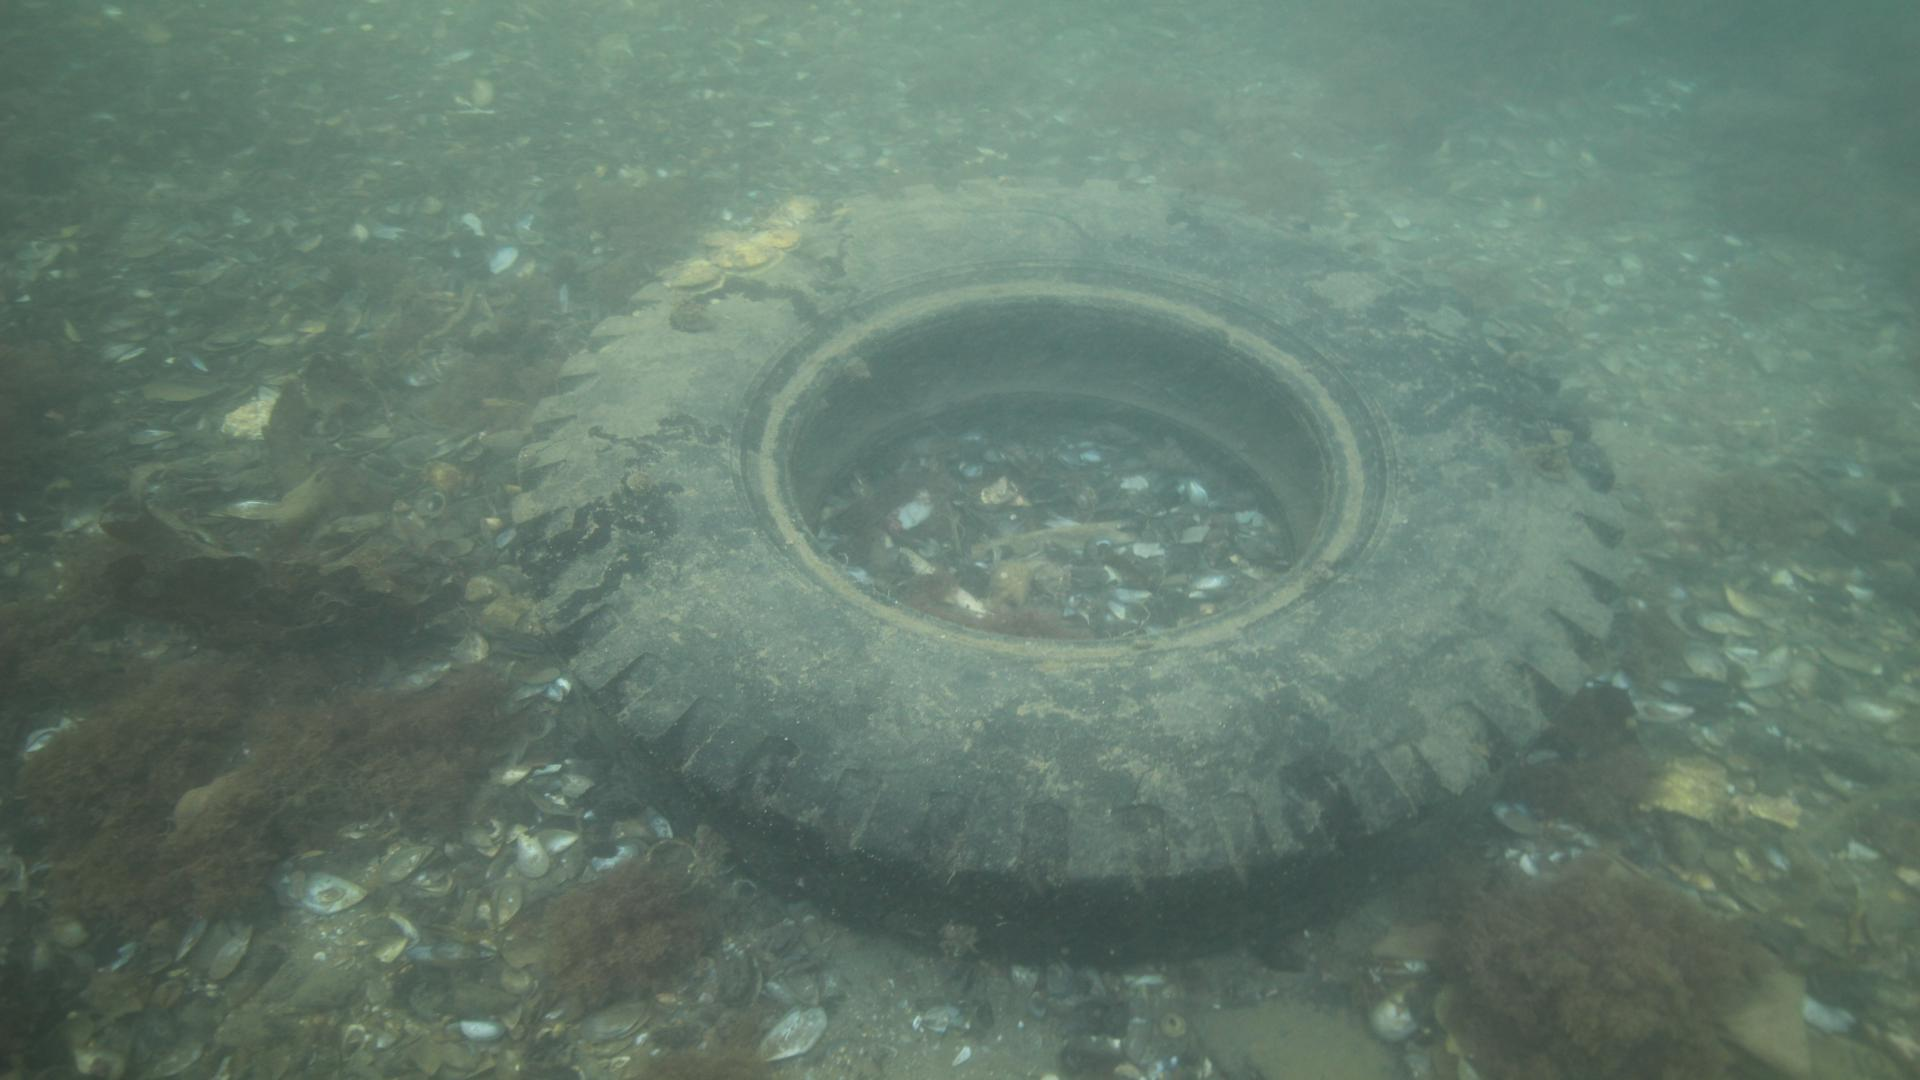tire: (509, 171, 1626, 963)
